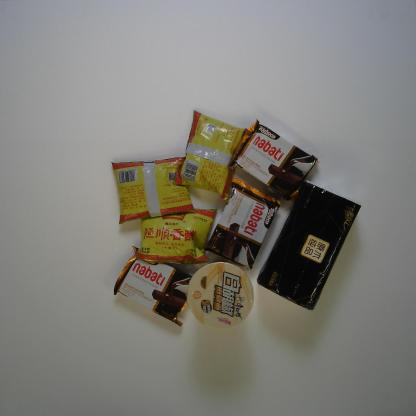Dessert: (228, 118, 320, 202), (203, 177, 281, 271), (113, 246, 198, 327)
Instant Noodles: (186, 261, 254, 332)
Seasoner: (172, 109, 251, 203), (111, 156, 196, 224), (135, 208, 218, 264)
Tissue: (256, 181, 363, 311)
